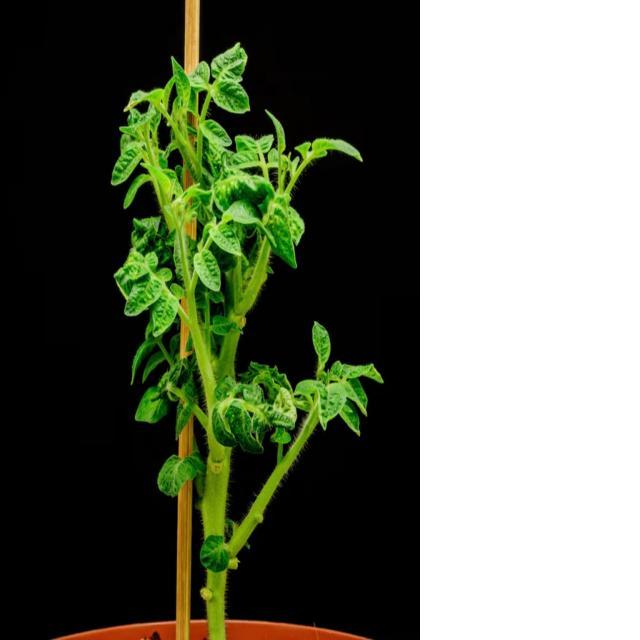tomato: (109, 44, 385, 640)
